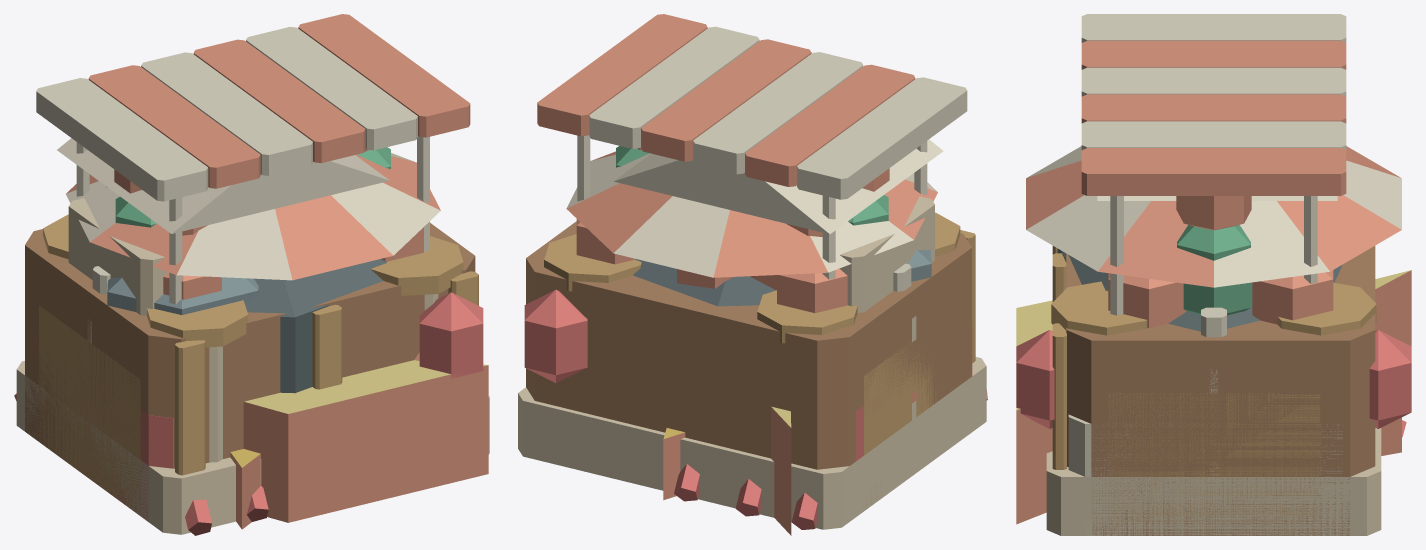
File: island-variety.glb
3 renders of one model, left to right at view 1: azimuth 30°, elevation 25°; view 2: azimuth 150°, elevation 25°; view 3: azimuth 270°, elevation 25°, orthographic. The views are drawn at different scales.
Parts seen in each view (by area): view 1: map_63_0, map_62_0, map_69_0, map_54_0, map_61_0, map_64_0, map_57_0, map_65_0, map_60_0, map_55_0, map_68_0, map_70_0; view 2: map_62_0, map_63_0, map_61_0, map_54_0, map_57_0, map_60_0, map_64_0, map_55_0, map_65_0, map_69_0, map_70_0, map_66_0; view 3: map_62_0, map_63_0, map_61_0, map_54_0, map_64_0, map_69_0, map_60_0, map_68_0, map_65_0, map_66_0, map_57_0, map_70_0.
Part boxes in pixels (x1=…): map_63_0: x1=36, y1=14, x2=470, y2=304; map_62_0: x1=25, y1=223, x2=478, y2=475; map_69_0: x1=243, y1=360, x2=488, y2=522; map_54_0: x1=66, y1=153, x2=440, y2=280; map_61_0: x1=16, y1=214, x2=489, y2=534; map_64_0: x1=39, y1=147, x2=390, y2=515; map_57_0: x1=57, y1=138, x2=389, y2=235; map_65_0: x1=107, y1=259, x2=386, y2=393; map_60_0: x1=14, y1=292, x2=483, y2=535; map_55_0: x1=68, y1=198, x2=168, y2=315; map_68_0: x1=31, y1=330, x2=173, y2=520; map_70_0: x1=230, y1=449, x2=260, y2=529; map_62_0: x1=526, y1=219, x2=975, y2=469; map_63_0: x1=537, y1=14, x2=967, y2=279; map_61_0: x1=518, y1=212, x2=986, y2=529; map_54_0: x1=566, y1=151, x2=937, y2=277; map_57_0: x1=613, y1=139, x2=943, y2=290; map_60_0: x1=524, y1=289, x2=987, y2=529; map_64_0: x1=616, y1=146, x2=937, y2=507; map_55_0: x1=839, y1=196, x2=934, y2=312; map_65_0: x1=633, y1=249, x2=931, y2=306; map_69_0: x1=771, y1=406, x2=791, y2=535; map_70_0: x1=663, y1=428, x2=685, y2=500; map_66_0: x1=893, y1=263, x2=916, y2=426; map_62_0: x1=1052, y1=246, x2=1375, y2=535; map_63_0: x1=1081, y1=14, x2=1346, y2=315; map_61_0: x1=1046, y1=281, x2=1381, y2=535; map_54_0: x1=1026, y1=146, x2=1401, y2=287; map_64_0: x1=1107, y1=196, x2=1320, y2=535; map_69_0: x1=1016, y1=270, x2=1411, y2=524; map_60_0: x1=1016, y1=330, x2=1411, y2=436; map_68_0: x1=1068, y1=414, x2=1342, y2=535; map_65_0: x1=1057, y1=249, x2=1342, y2=331; map_66_0: x1=1201, y1=307, x2=1226, y2=483; map_57_0: x1=1097, y1=196, x2=1337, y2=200; map_70_0: x1=1381, y1=417, x2=1401, y2=455.
Bounding box in the file's own units: 1 × 1 × 1.
